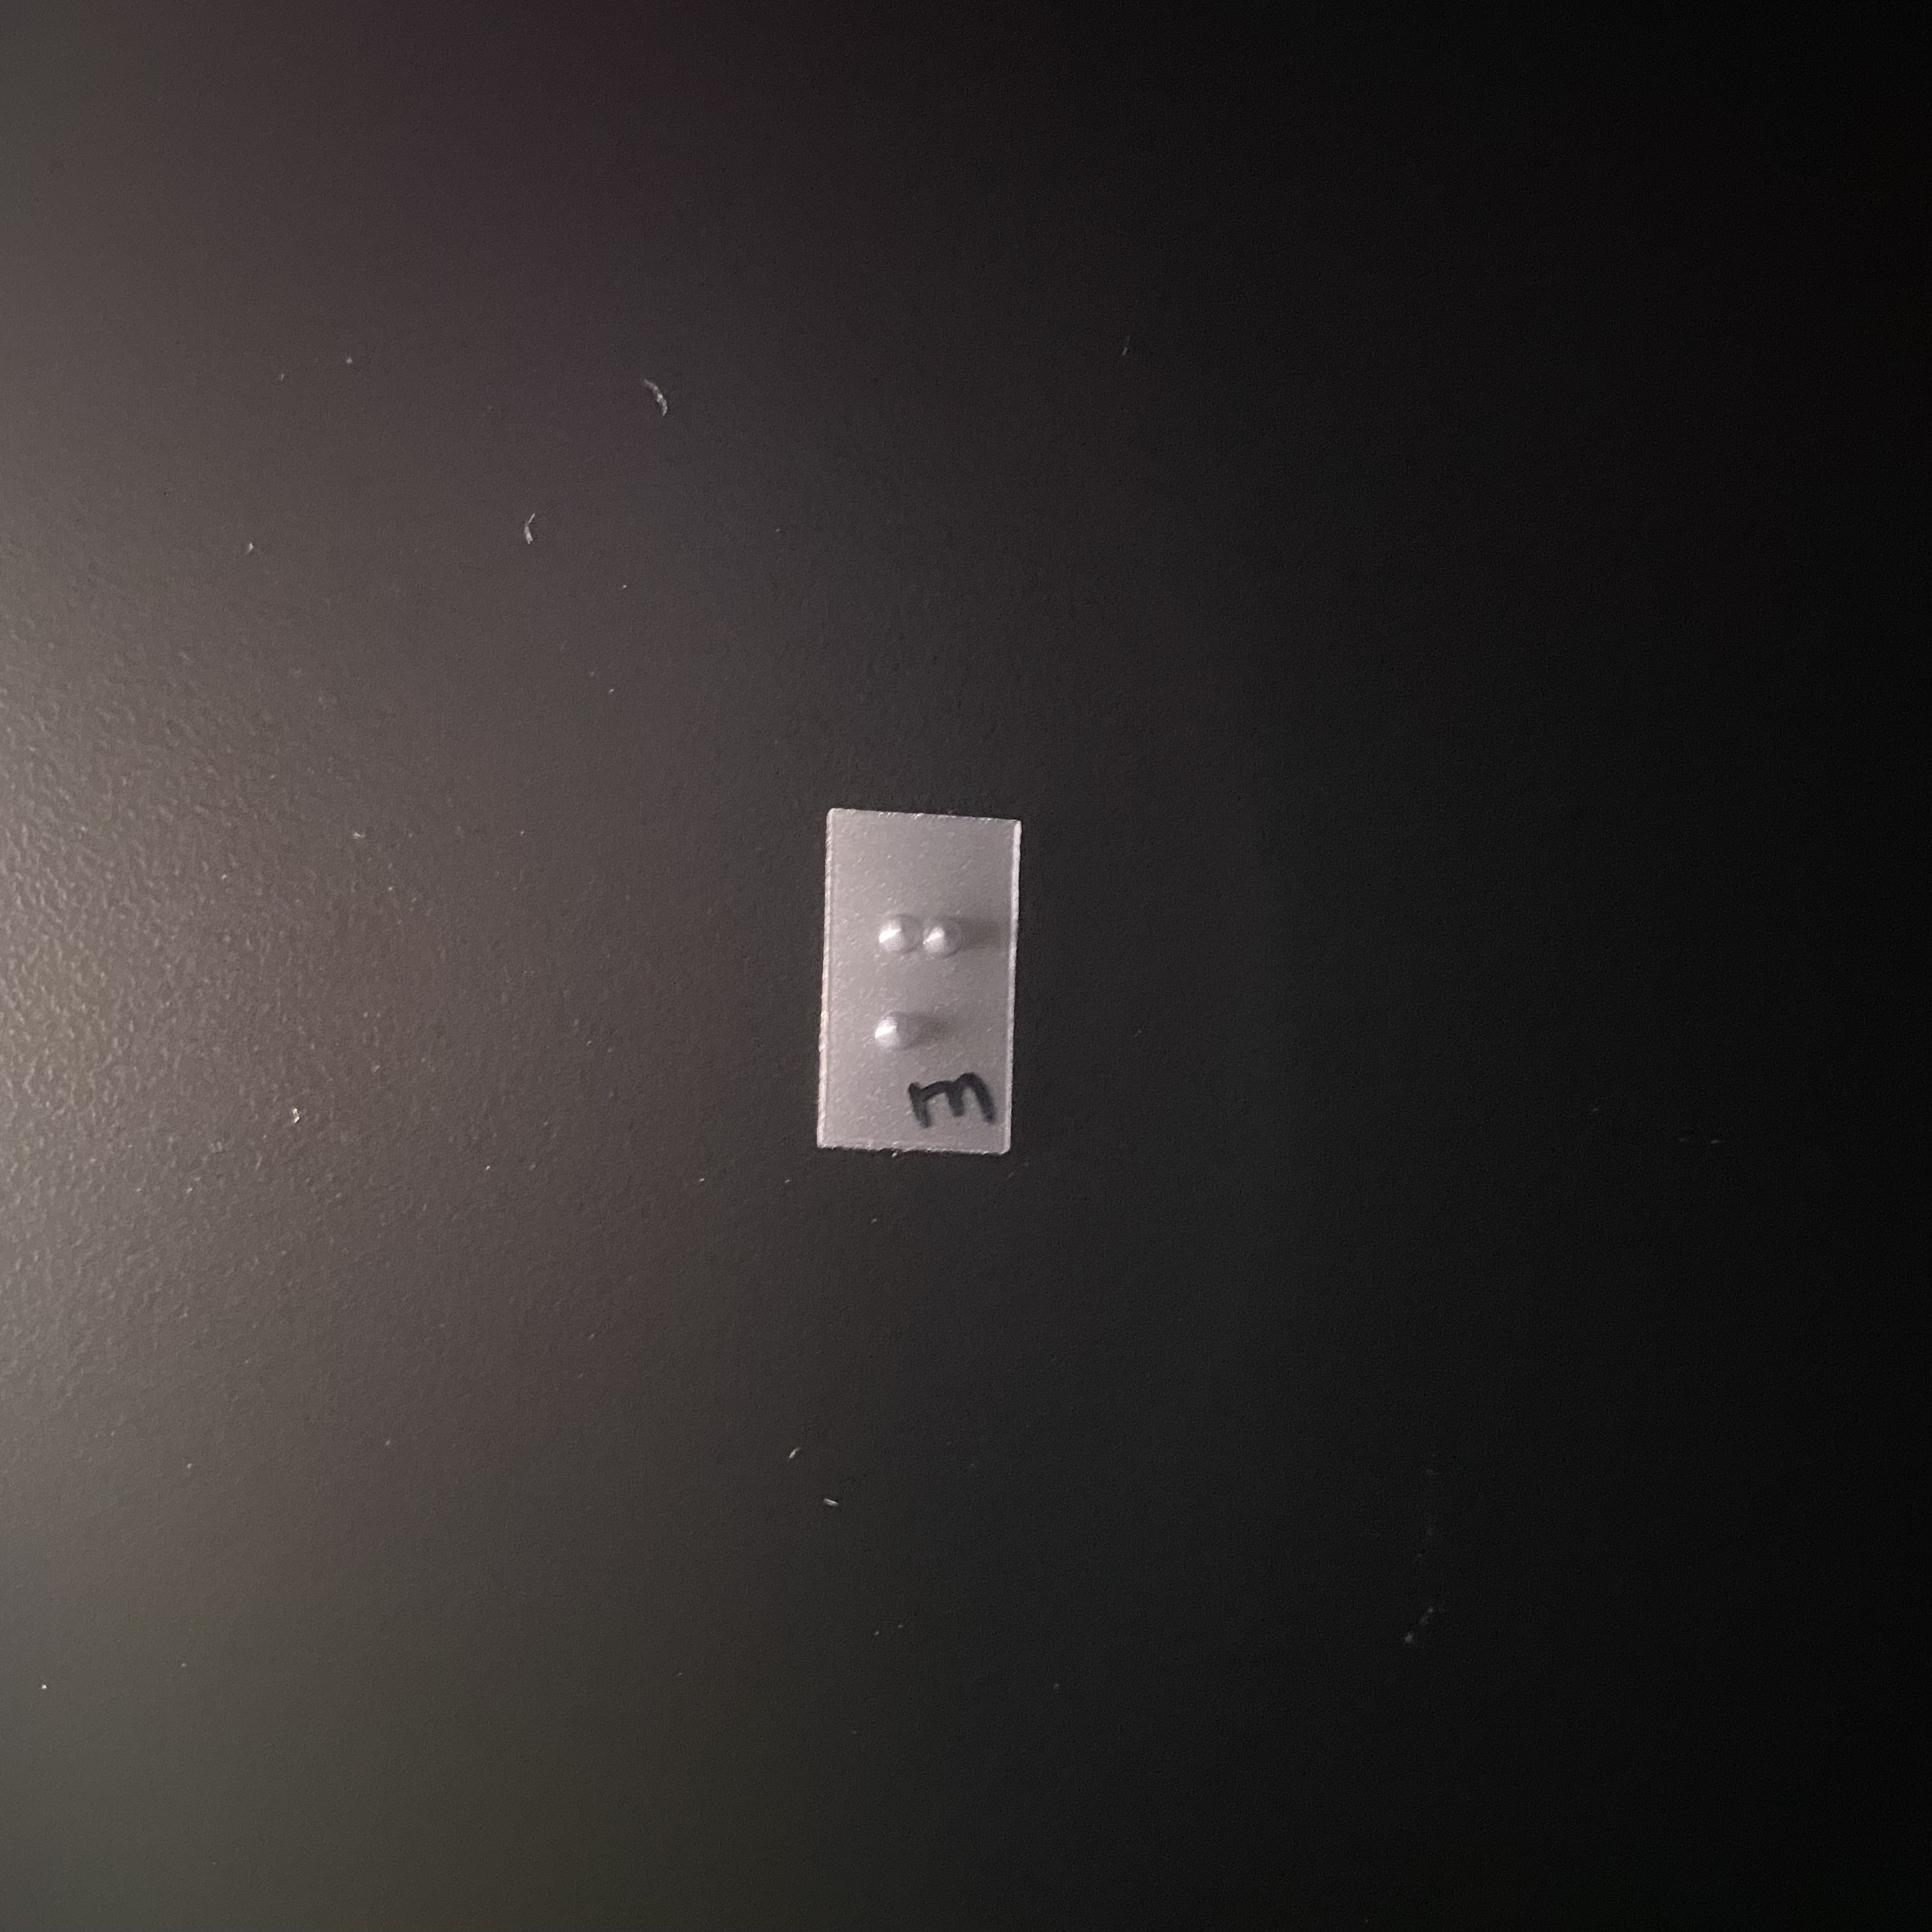m: (867, 899, 996, 1055)
